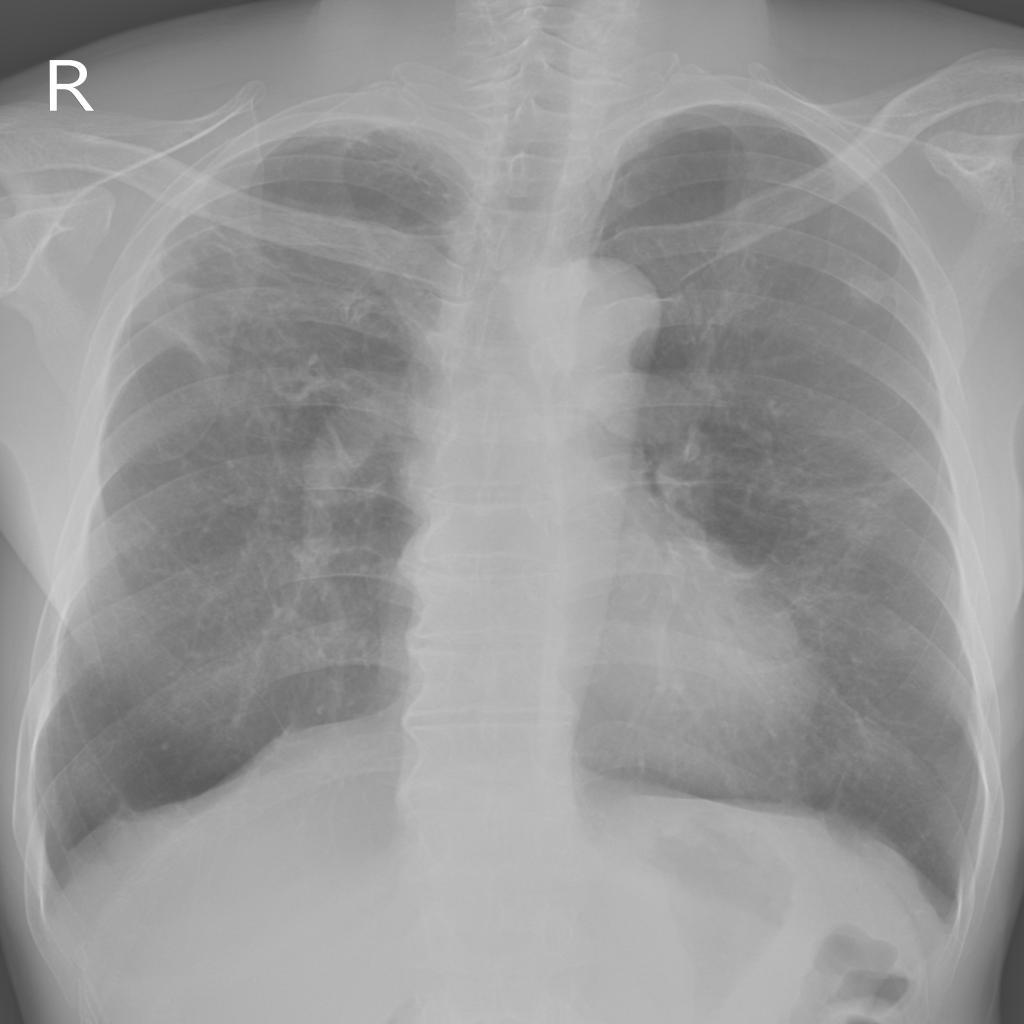Nodule: (595, 372, 706, 441), (848, 274, 888, 311)
